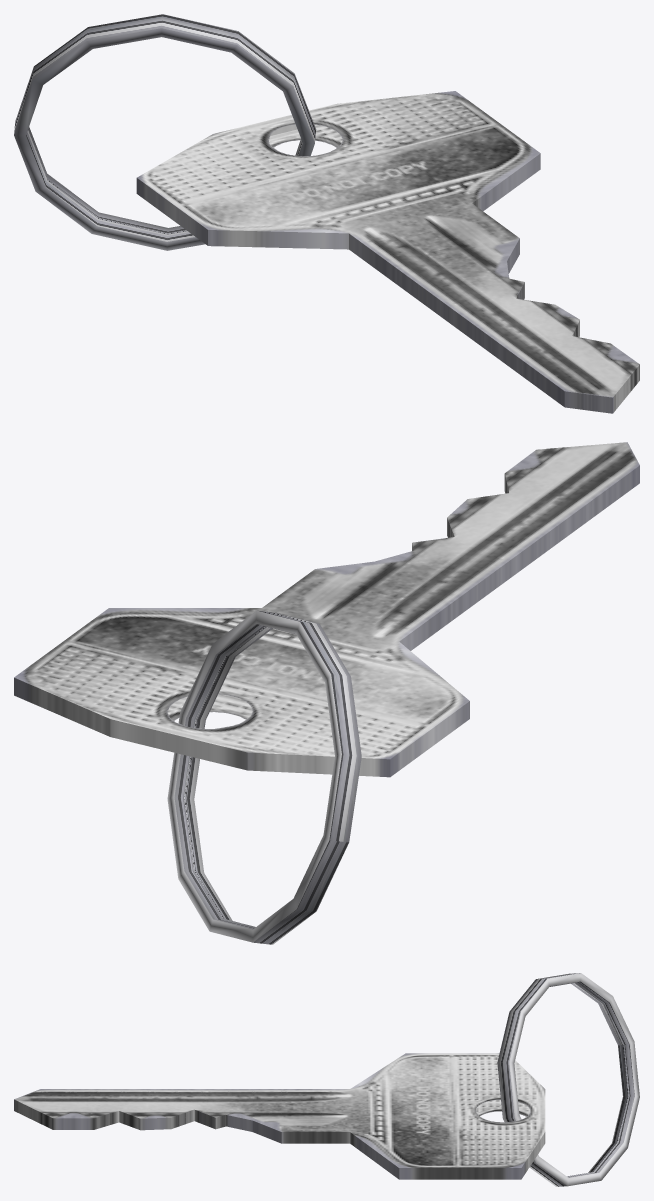
Rendered from key_industrial.fbx.
3 renders of one model, top to bottom at view 1: azimuth 30°, elevation 25°; view 2: azimuth 150°, elevation 25°; view 3: azimuth 270°, elevation 25°, orthographic. The views are drawn at different scales.
Parts seen in each view (by area): view 1: key_indust; view 2: key_indust; view 3: key_indust.
Boxes of the visible parts, <box> form: key_indust: <box>14,14,639,413</box>; key_indust: <box>14,442,639,944</box>; key_indust: <box>14,973,639,1186</box>.
Size of the model in its own units: 11.95 by 8.2 by 24.34.
Materials: 1 (1 with a texture image).
